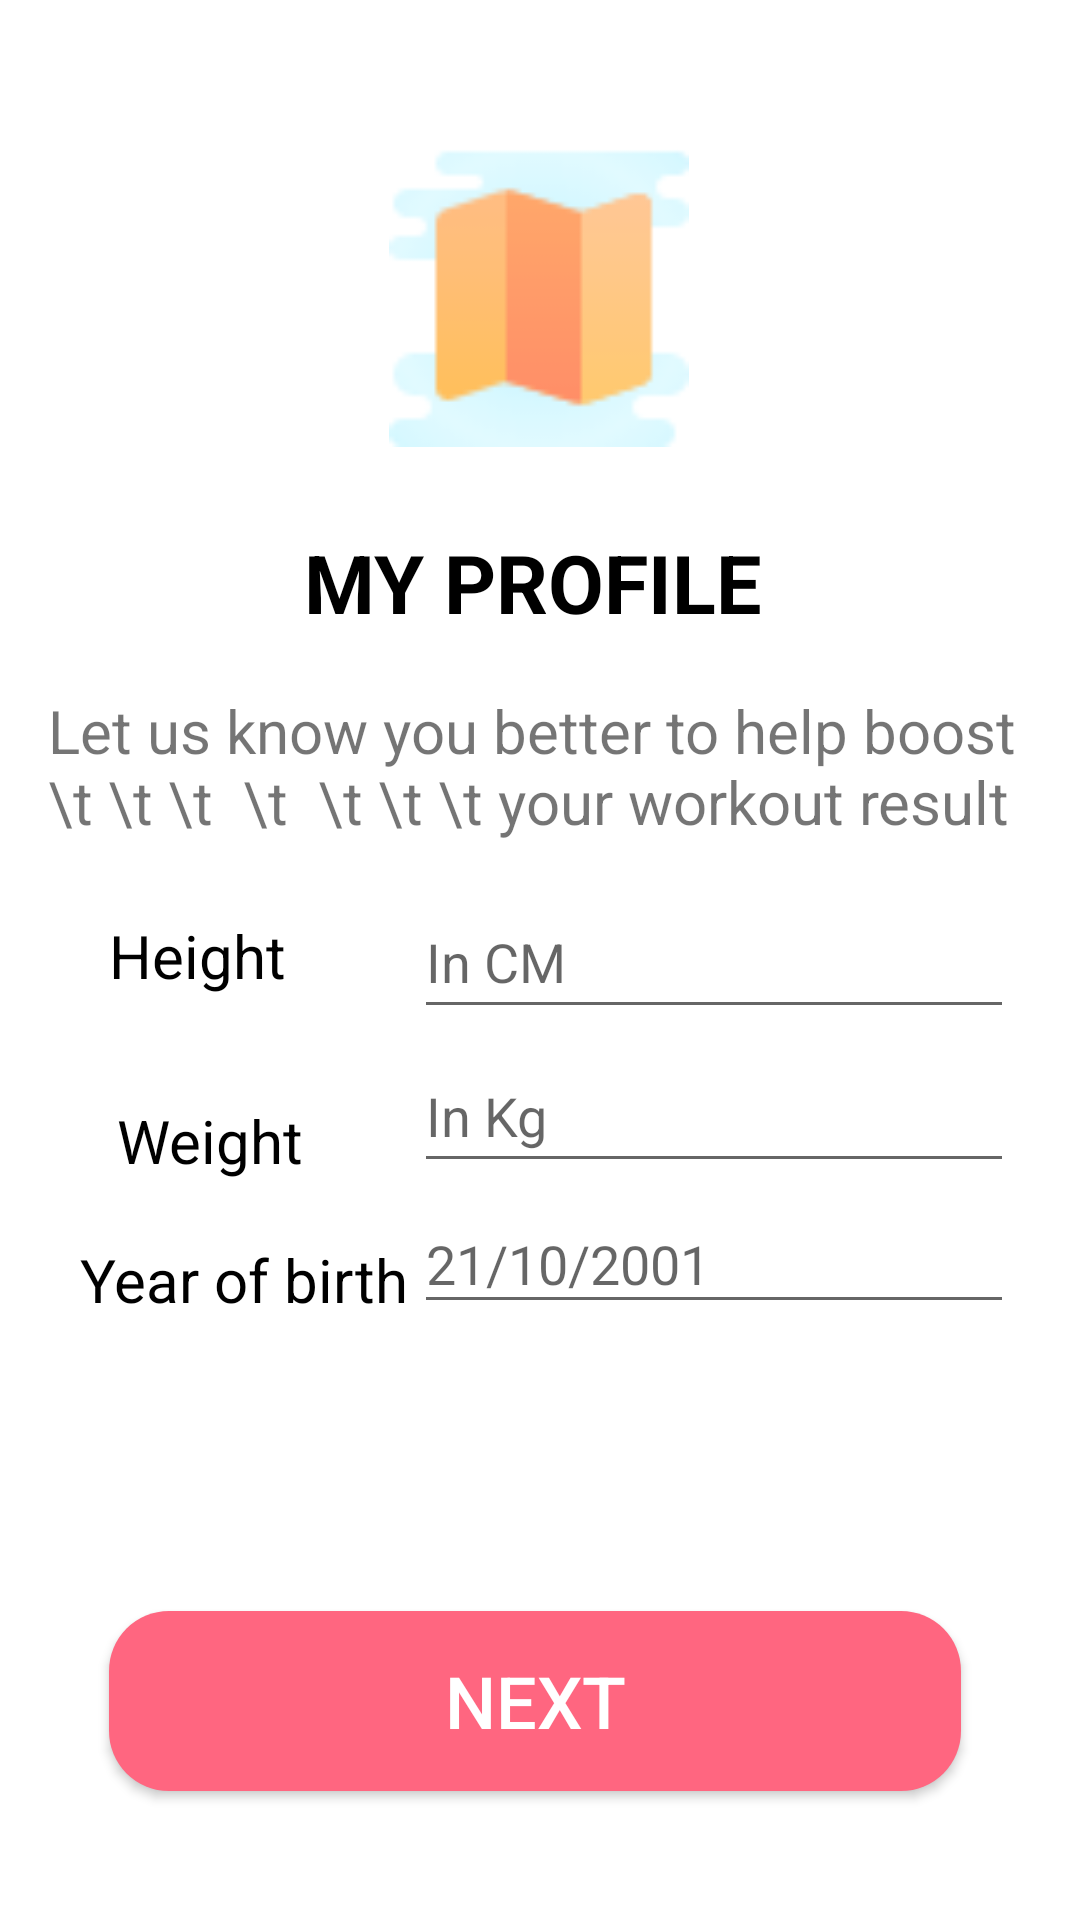

Locate icon controls on the screen. Image size 1080 x 1920, boxes as (x1, y1, x2, y2).
map: (389, 152, 689, 447)
